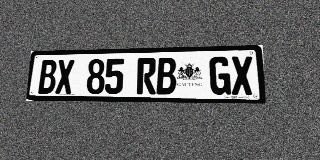5: (105, 58, 124, 94)
8: (86, 59, 106, 94)
B: (156, 57, 176, 94), (38, 60, 57, 94)
G: (209, 56, 231, 95)
R: (136, 58, 156, 94)
X: (231, 56, 254, 95), (55, 59, 74, 94)
